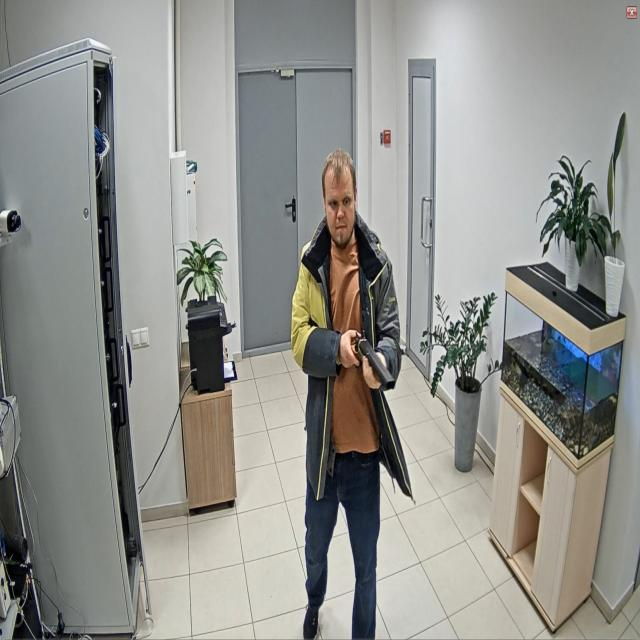-Gun: (360, 339, 396, 391)
